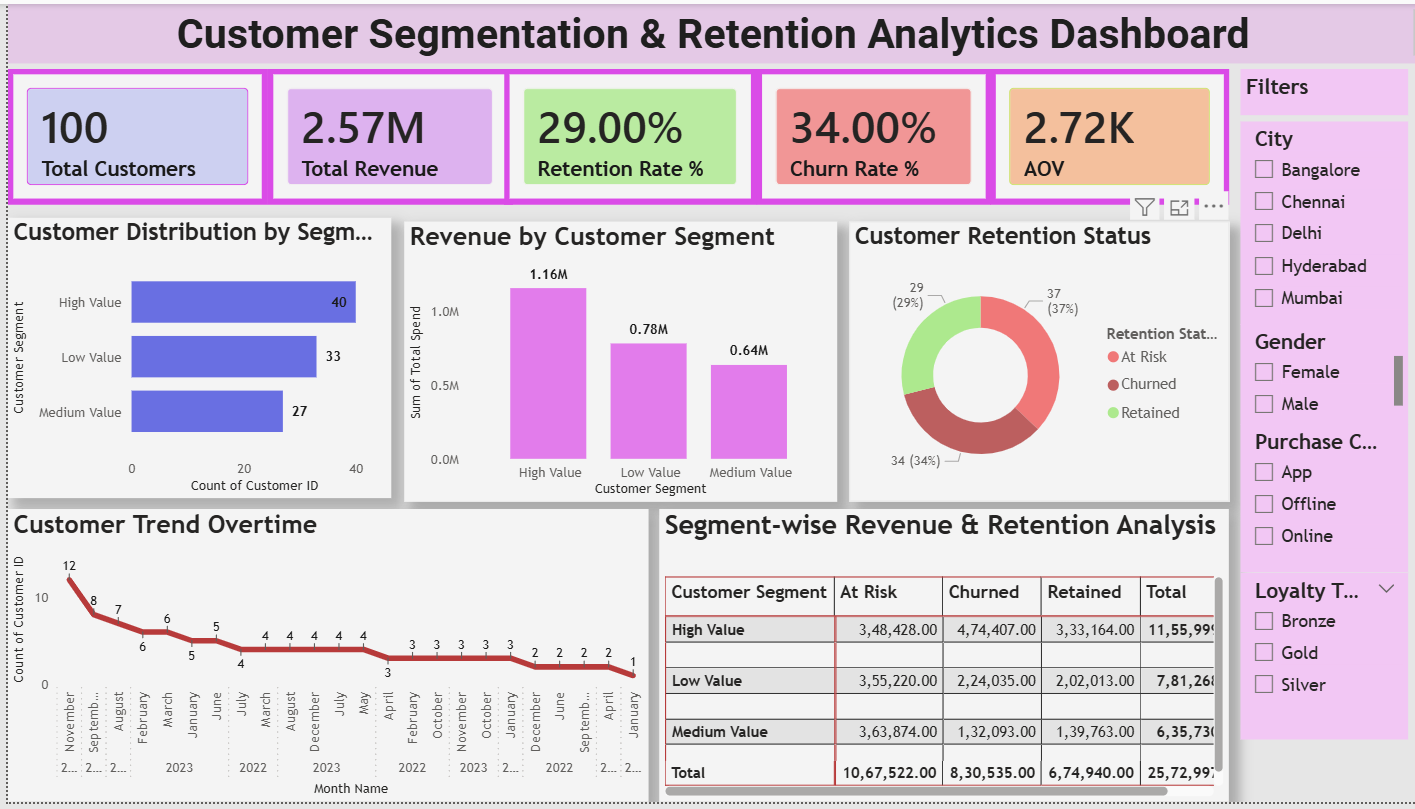

The page's visual inventory and layout, read from the dashboard file:
{"tool":"powerbi","page":{"name":"Page 1","canvas":[1280,720],"ordinal":0},"visuals":[{"type":"cardVisual","fields":{"Data":["customer_segmentation_dataset.Total Revenue"]},"box":[234.7,58.3,220.8,122.2],"z":0},{"type":"cardVisual","fields":{"Data":["customer_segmentation_dataset.Total Customers"]},"box":[0,58.3,234.7,122.2],"z":1},{"type":"cardVisual","fields":{"Data":["customer_segmentation_dataset.Retention Rate %"]},"box":[447.2,58.3,227.8,122.2],"z":2},{"type":"cardVisual","fields":{"Data":["customer_segmentation_dataset.Churn Rate %"]},"box":[675,58.3,211.1,122.2],"z":3},{"type":"cardVisual","fields":{"Data":["customer_segmentation_dataset.AOV"]},"box":[886.1,58.3,215.3,122.2],"z":4},{"type":"clusteredBarChart","title":"Customer Distribution by Segment","fields":{"Category":["customer_segmentation_dataset.Customer Segment"],"Y":["CountNonNull(customer_segmentation_dataset.Customer ID)"]},"box":[0,193.1,345.8,252.8],"z":5},{"type":"clusteredColumnChart","title":"Revenue by Customer Segment","fields":{"Category":["customer_segmentation_dataset.Customer Segment"],"Y":["Sum(customer_segmentation_dataset.Total Spend)"]},"box":[356.9,195.8,390.3,252.8],"z":6},{"type":"donutChart","title":" Customer Retention Status","fields":{"Category":["customer_segmentation_dataset.Retention Status"],"Y":["CountNonNull(customer_segmentation_dataset.Customer ID)"]},"box":[758.3,195.8,343.1,252.8],"z":7},{"type":"lineChart","title":"Customer Trend Overtime","fields":{"Category":["customer_segmentation_dataset.Year","customer_segmentation_dataset.Month Name"],"Y":["CountNonNull(customer_segmentation_dataset.Customer ID)"]},"box":[0,455.6,577.8,263.9],"z":8},{"type":"pivotTable","title":"Segment-wise Revenue & Retention Analysis ","fields":{"Rows":["customer_segmentation_dataset.Customer Segment"],"Columns":["customer_segmentation_dataset.Retention Status"],"Values":["Sum(customer_segmentation_dataset.Total Spend)"]},"box":[587.5,455.6,513.9,263.9],"z":9},{"type":"slicer","fields":{"Values":["customer_segmentation_dataset.City"]},"box":[1111.1,105.6,151.4,183.3],"z":10},{"type":"slicer","fields":{"Values":["customer_segmentation_dataset.Gender"]},"box":[1111.1,288.9,151.4,90.3],"z":11},{"type":"slicer","fields":{"Values":["customer_segmentation_dataset.Purchase Channel"]},"box":[1111.1,379.2,151.4,133.3],"z":12},{"type":"slicer","fields":{"Values":["customer_segmentation_dataset.Loyalty Tier"]},"box":[1111.1,512.5,151.4,150],"z":13},{"type":"textbox","box":[0,0,1280.4,53.3],"z":14},{"type":"textbox","box":[1111.1,58.3,151.4,41.7],"z":15}]}

Visuals, with their boxes in screenshot pixels (x1, y1, x2, y2), scaled from the page's 1280x720 canvas onto the 1415x809 screenshot:
cardVisual - customer_segmentation_dataset.Total Revenue: box=[259, 66, 504, 203]
cardVisual - customer_segmentation_dataset.Total Customers: box=[0, 66, 259, 203]
cardVisual - customer_segmentation_dataset.Retention Rate %: box=[494, 66, 746, 203]
cardVisual - customer_segmentation_dataset.Churn Rate %: box=[746, 66, 980, 203]
cardVisual - customer_segmentation_dataset.AOV: box=[980, 66, 1218, 203]
"Customer Distribution by Segment" clusteredBarChart: box=[0, 217, 382, 501]
"Revenue by Customer Segment" clusteredColumnChart: box=[395, 220, 826, 504]
" Customer Retention Status" donutChart: box=[838, 220, 1218, 504]
"Customer Trend Overtime" lineChart: box=[0, 512, 639, 808]
"Segment-wise Revenue & Retention Analysis " pivotTable: box=[649, 512, 1218, 808]
slicer - customer_segmentation_dataset.City: box=[1228, 119, 1396, 325]
slicer - customer_segmentation_dataset.Gender: box=[1228, 325, 1396, 426]
slicer - customer_segmentation_dataset.Purchase Channel: box=[1228, 426, 1396, 576]
slicer - customer_segmentation_dataset.Loyalty Tier: box=[1228, 576, 1396, 744]
textbox: box=[0, 0, 1414, 60]
textbox: box=[1228, 66, 1396, 112]
